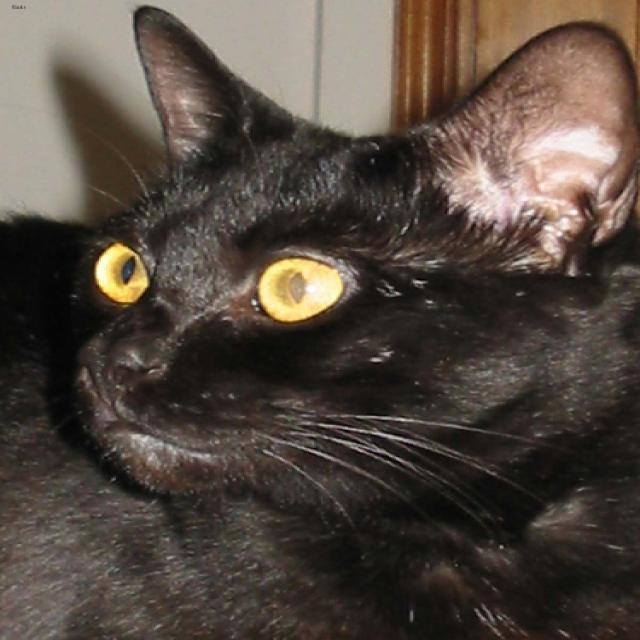Bombay: (34, 0, 639, 505)
